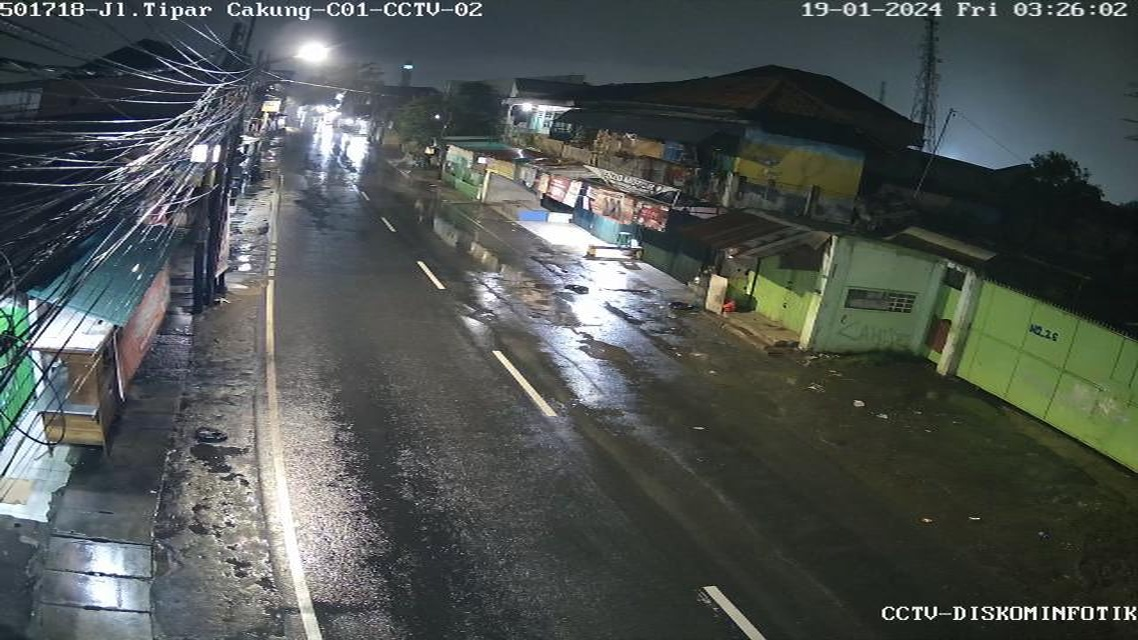Gerobak: (23, 288, 146, 459)
